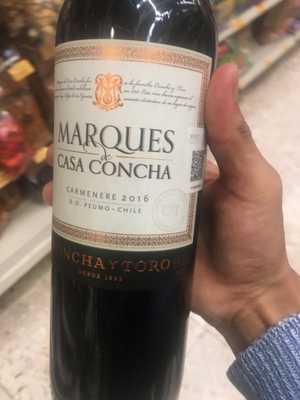marques de casa concha carmenere: (47, 15, 219, 400)
